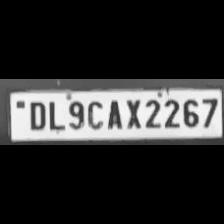2: (141, 97, 161, 129), (160, 97, 180, 129)
6: (179, 96, 199, 128)
7: (200, 95, 218, 129)
9: (64, 98, 84, 130)
A: (104, 96, 122, 130)
C: (84, 98, 104, 130)
D: (25, 99, 47, 131)
L: (46, 99, 64, 131)
X: (122, 96, 142, 130)
